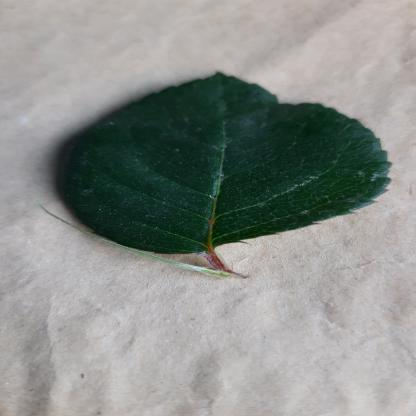normal: (51, 71, 393, 253)
